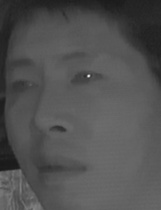eye: (65, 68, 106, 89), (7, 76, 40, 94)
mouth: (31, 149, 89, 187)
